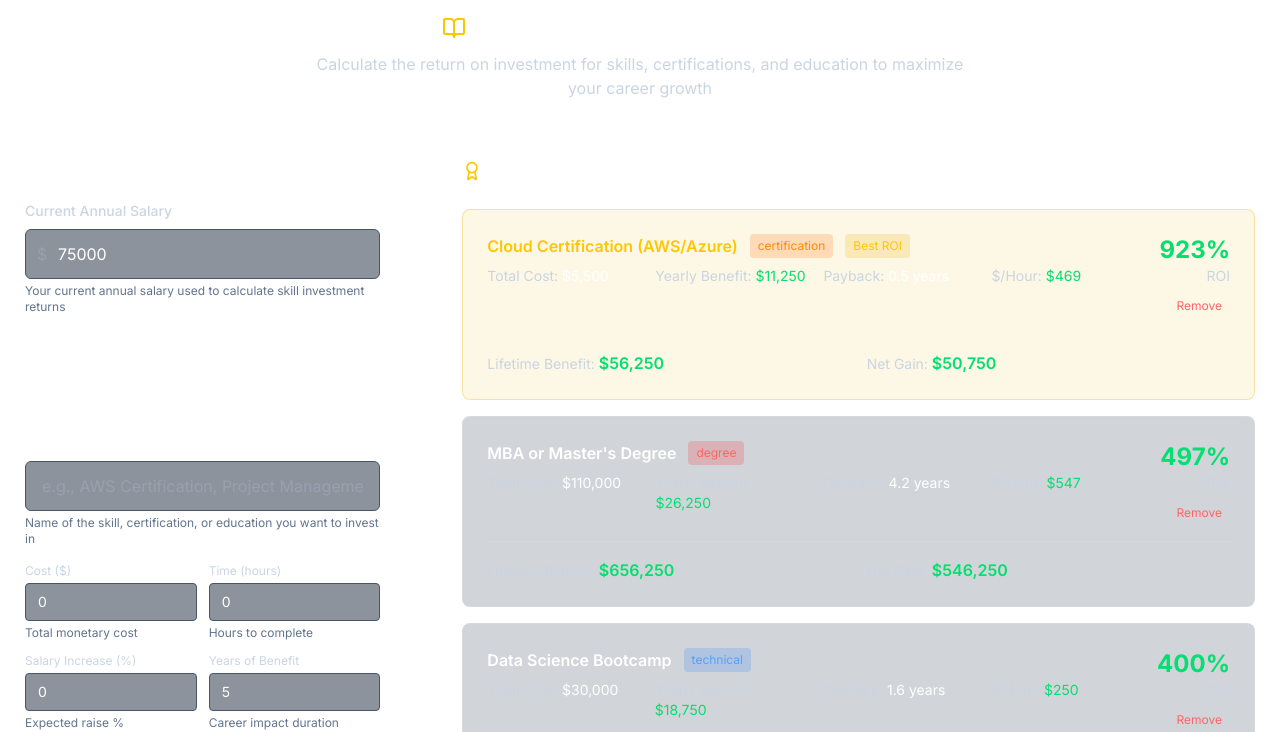
SkillInvestmentROICalculator › validates current salary and shows error messages
This screenshot has width=1280, height=732.
# Test invalid input (too low)
Step 1. Type "10000" into the number field labelled "Current Annual Salary" → [203, 254], box [25,229,380,279]
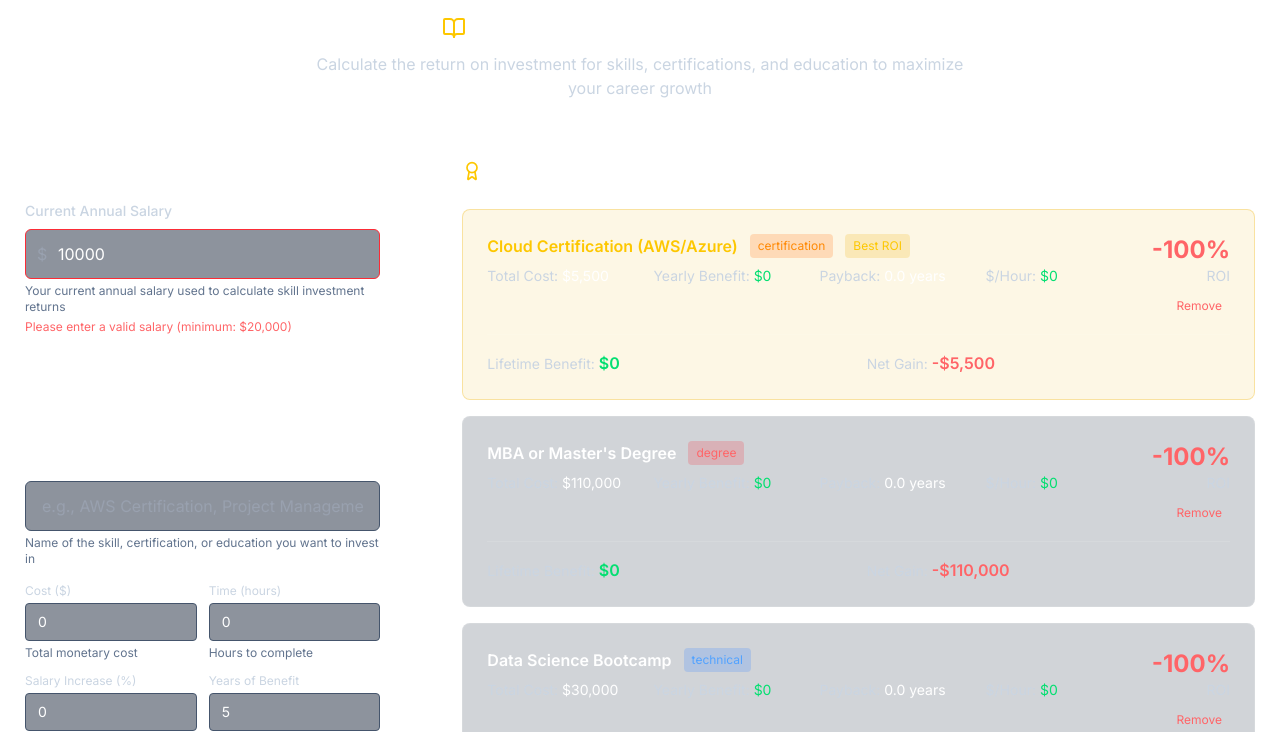
Check: the text "Please enter a valid salary (minimum: $20,000)" is shown, box [25,319,292,334]
